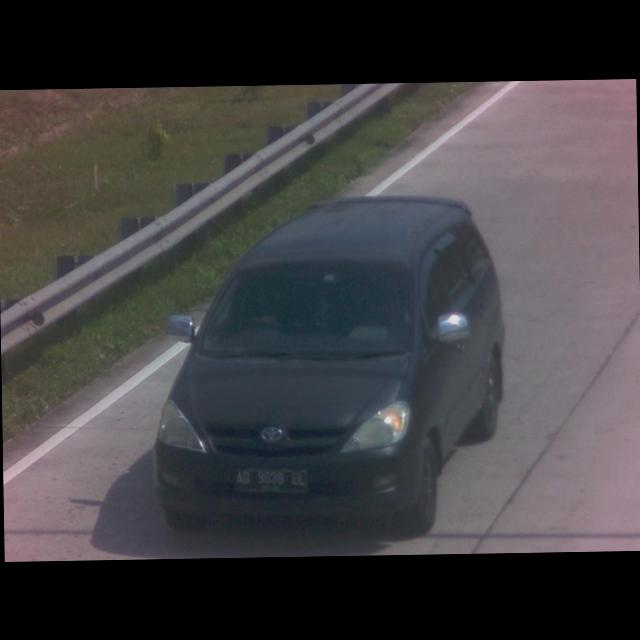plate: (234, 463, 312, 499)
